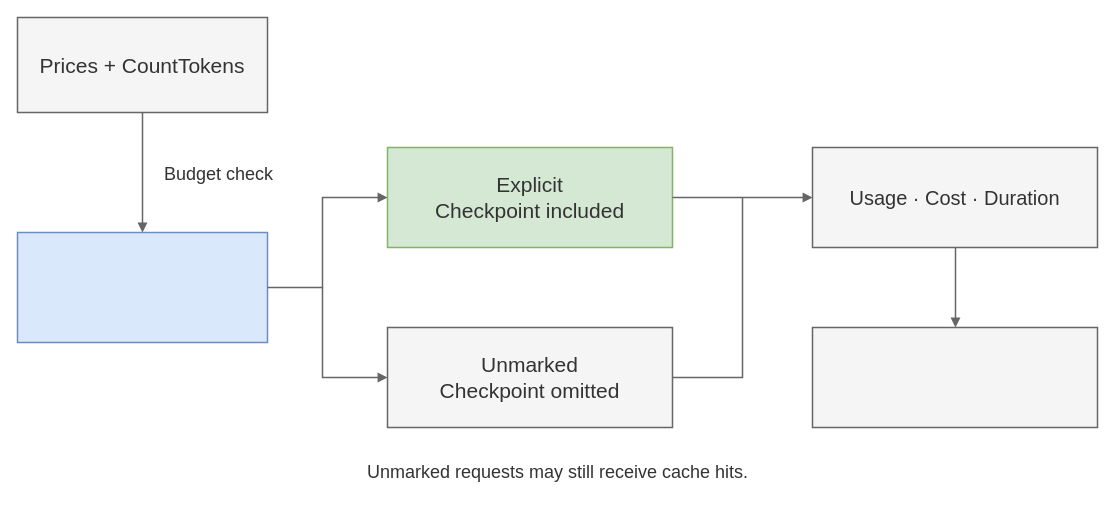
This 1116x506 diagram has some shape labels left out. The box of each missing label's shape, as (x1, y1, x2, y2) in pixels:
Checks + Human review: (811, 326, 1098, 428)
Same prompt and model: (16, 231, 268, 343)
